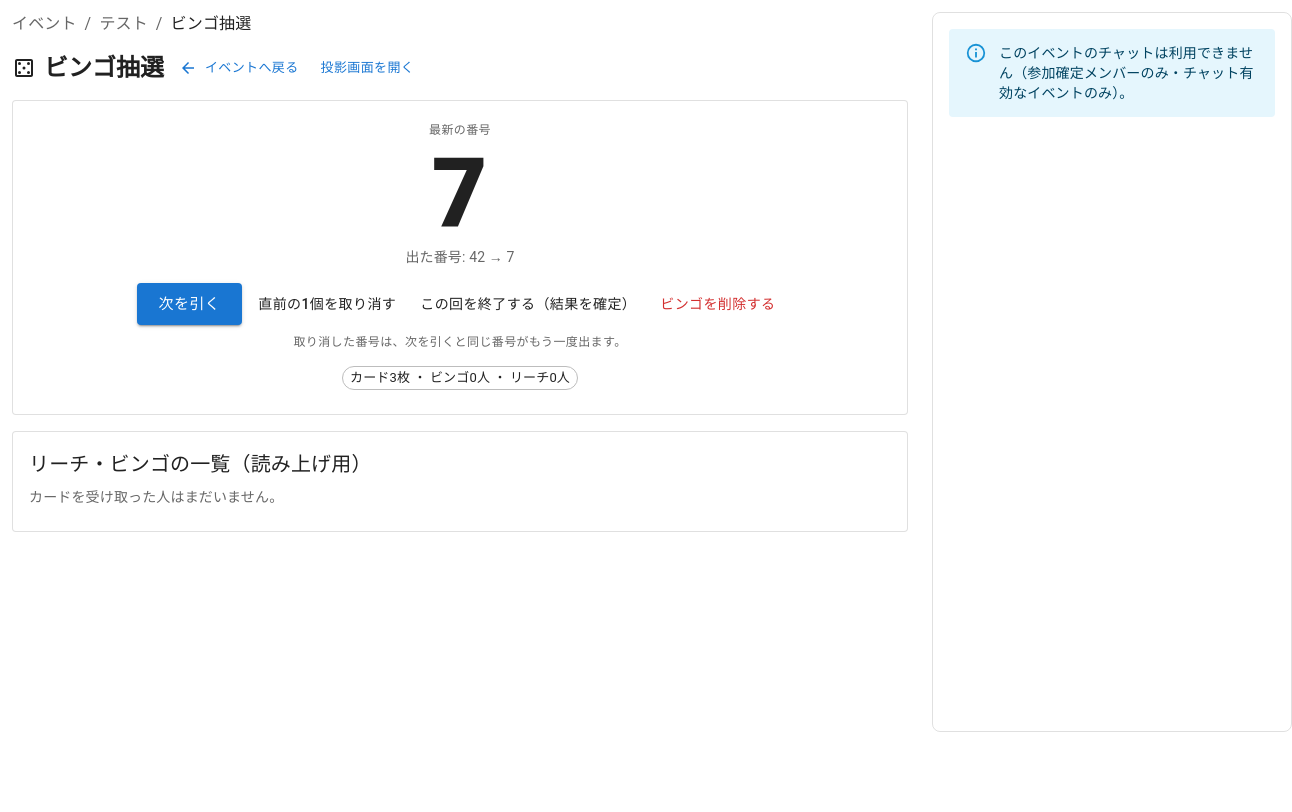
Test: ビンゴ抽選コントロール (#436) › 取り消しも応答の列で巻き戻す（表示が取り直し待ちにならない）
The image size is (1292, 812).
Step 1. Click the button "直前の1個を取り消す" → (327, 304), box [250,283,404,325]
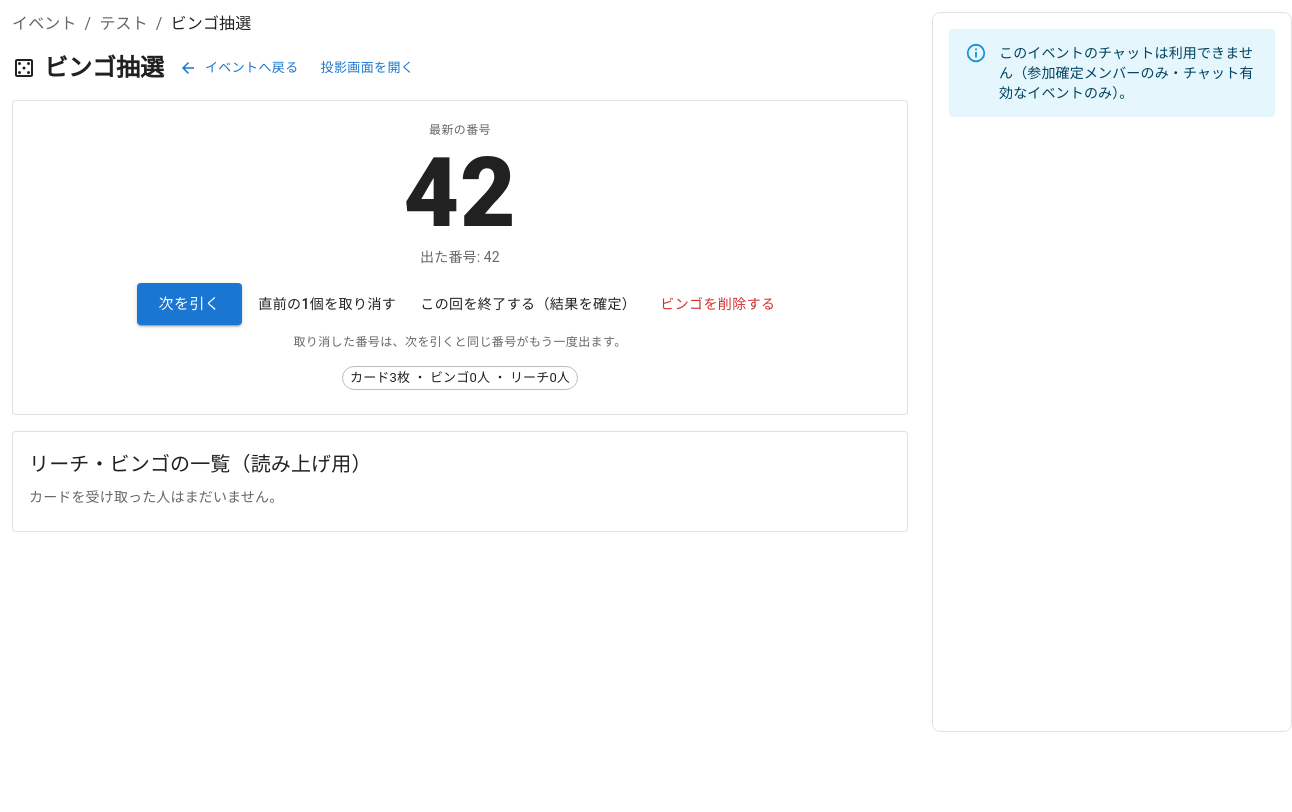
Now the text "7" is gone
Now the text "42" is shown, box [404,137,517,249]
